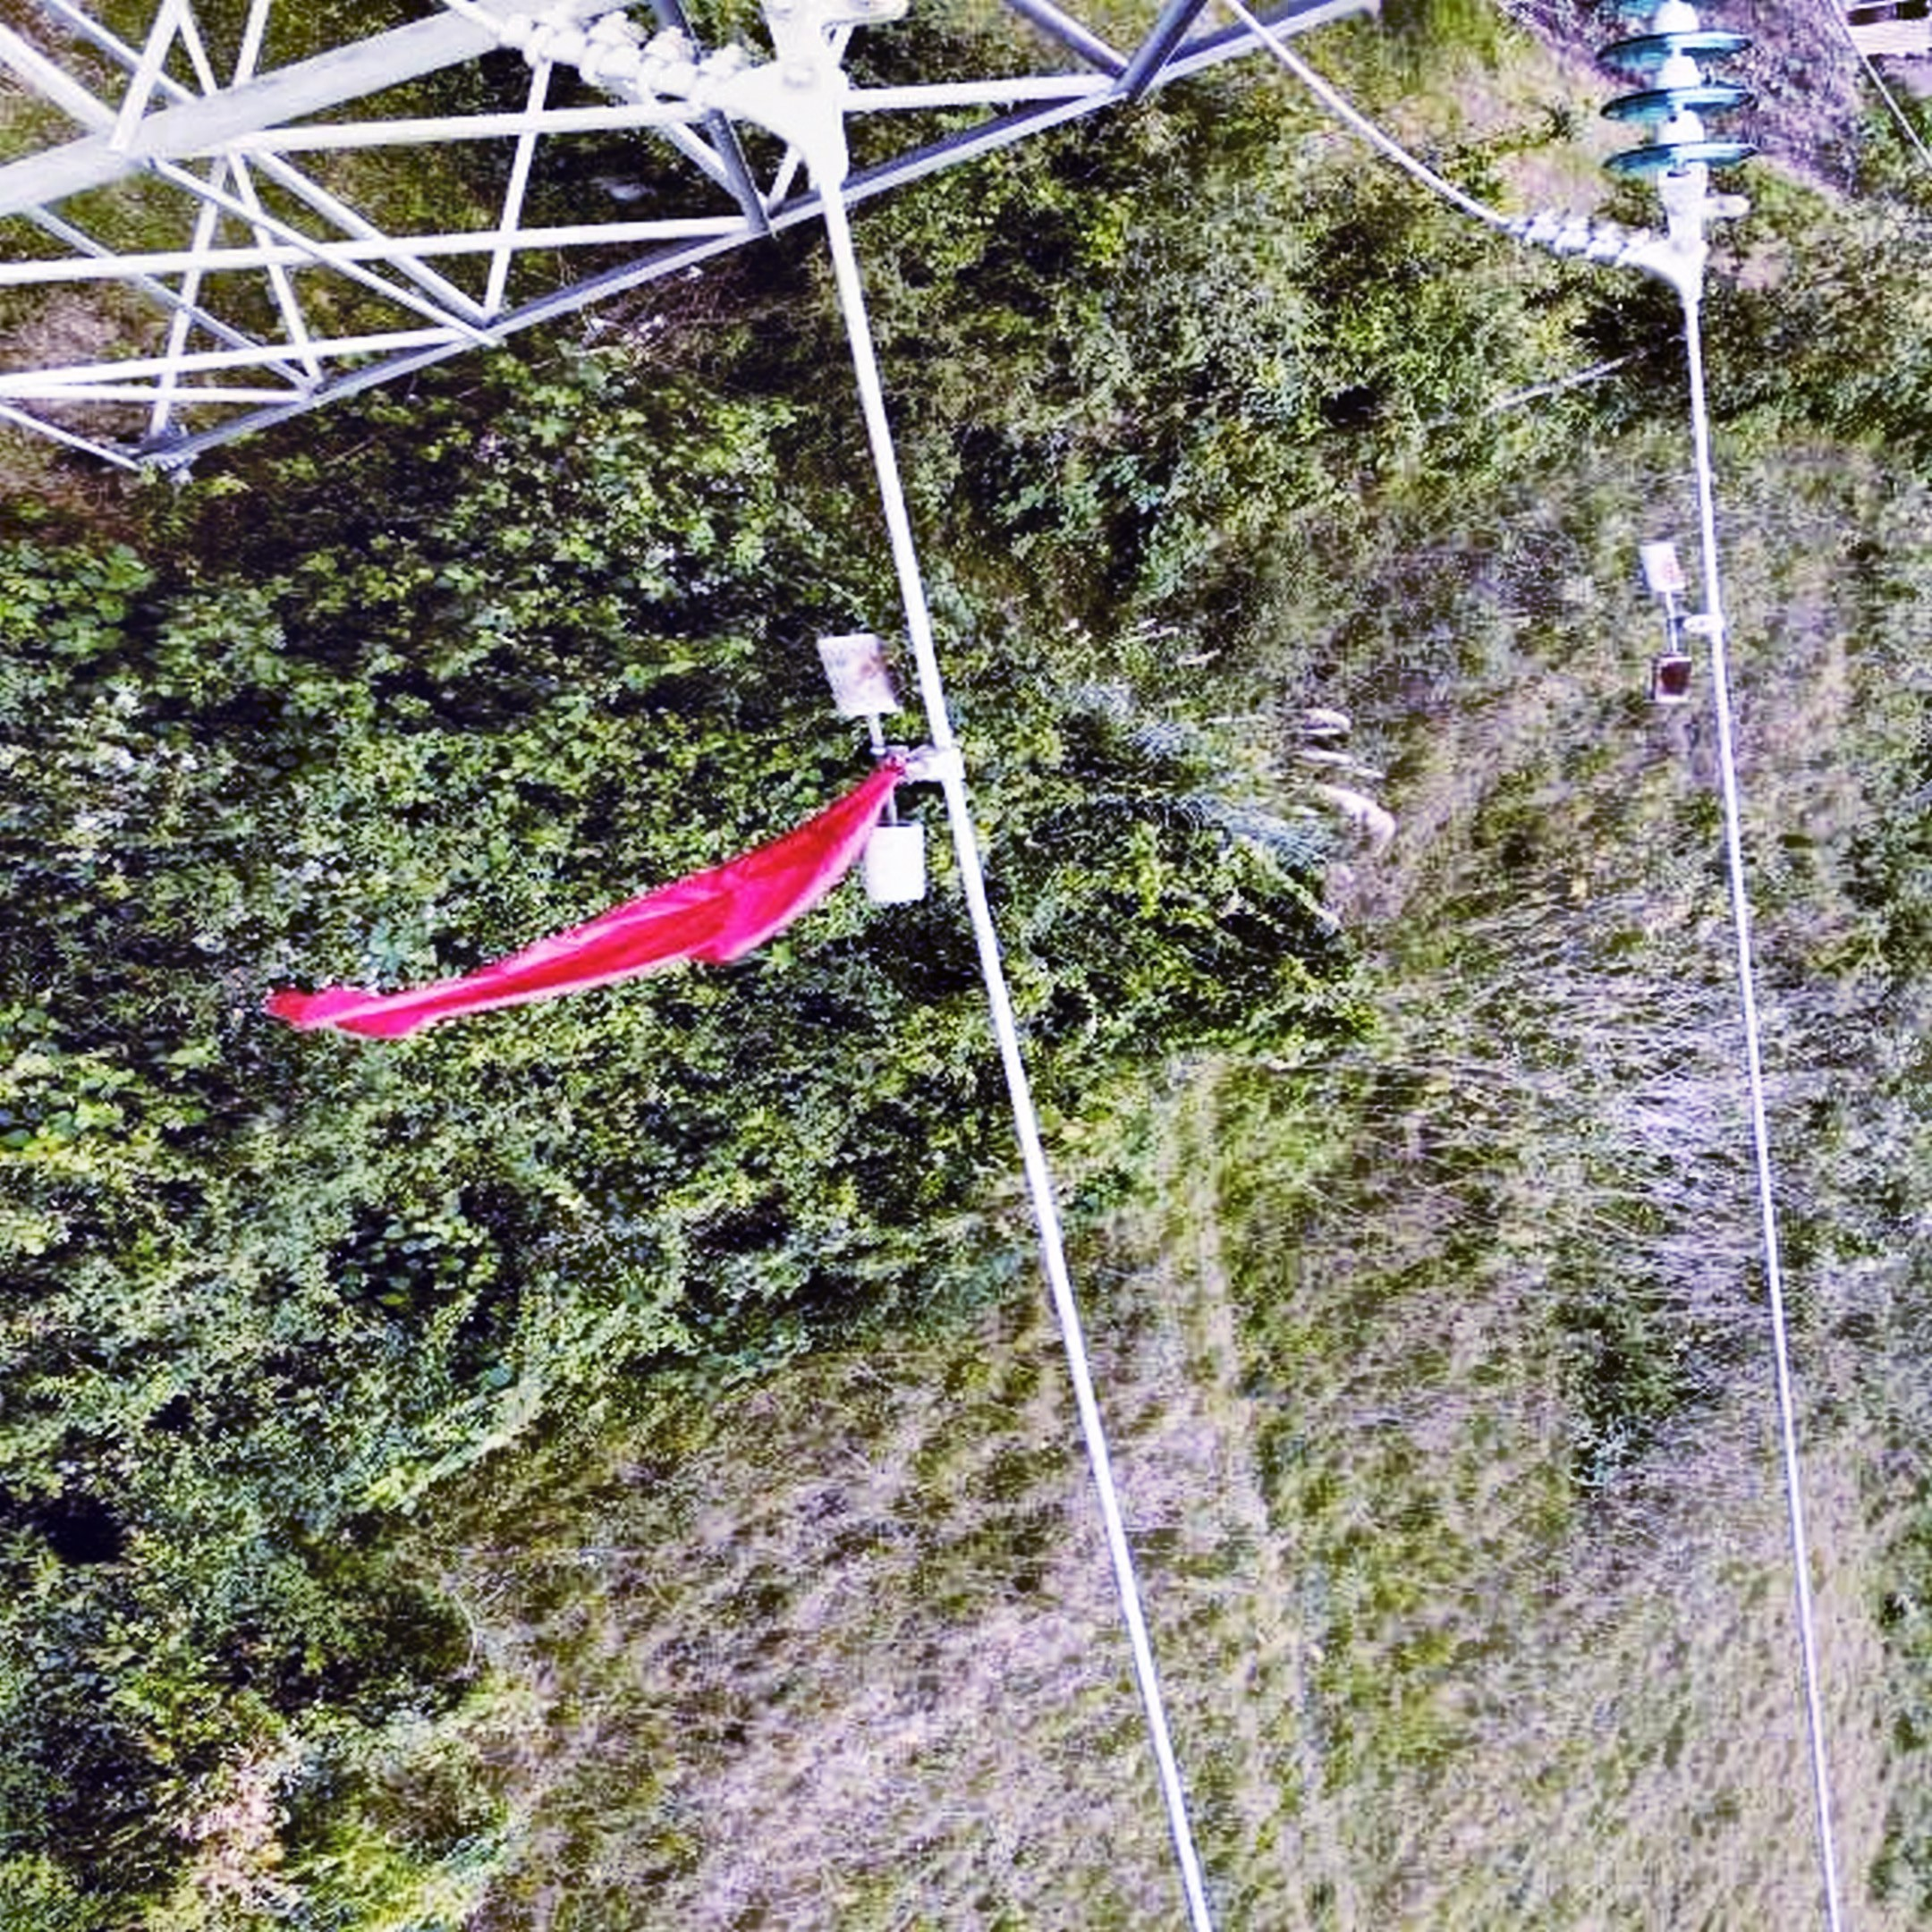wire foreign body: (207, 759, 909, 1095)
